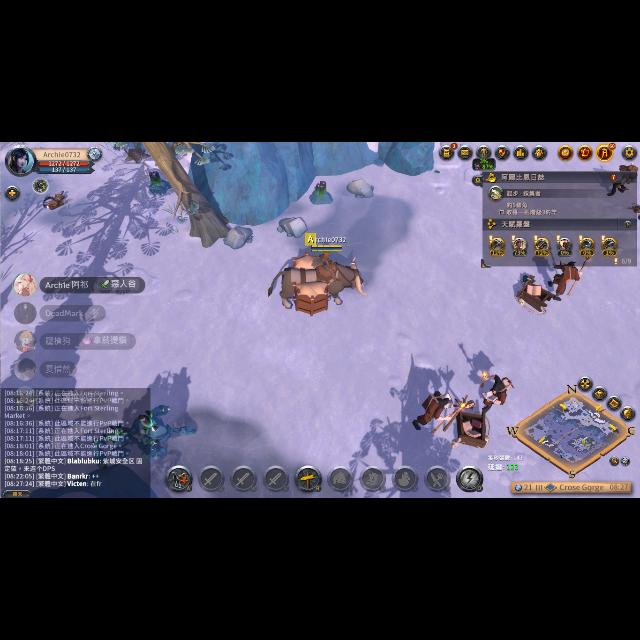mine_iii: (306, 181, 336, 205), (146, 170, 172, 196)
